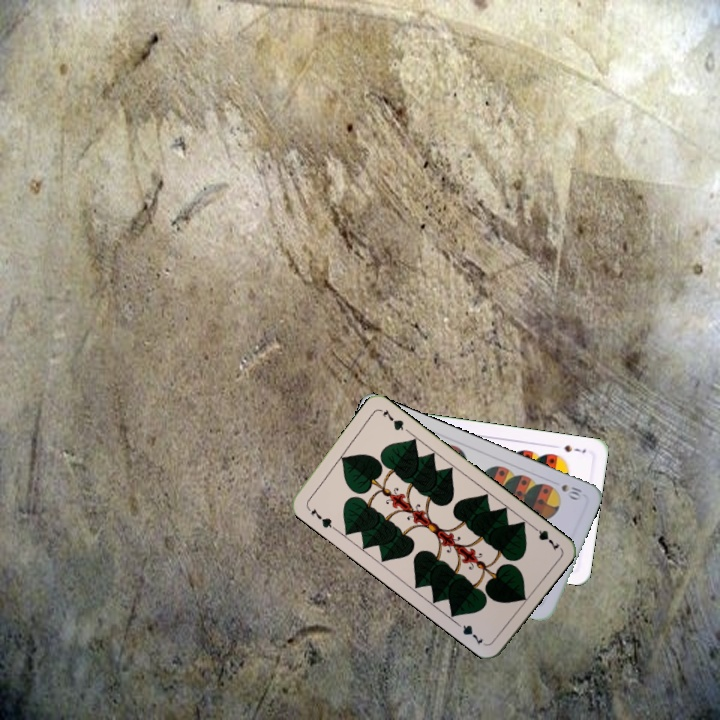G7: (527, 521, 562, 553), (307, 504, 338, 532)
S10: (557, 480, 584, 503)
S7: (560, 441, 588, 456)
